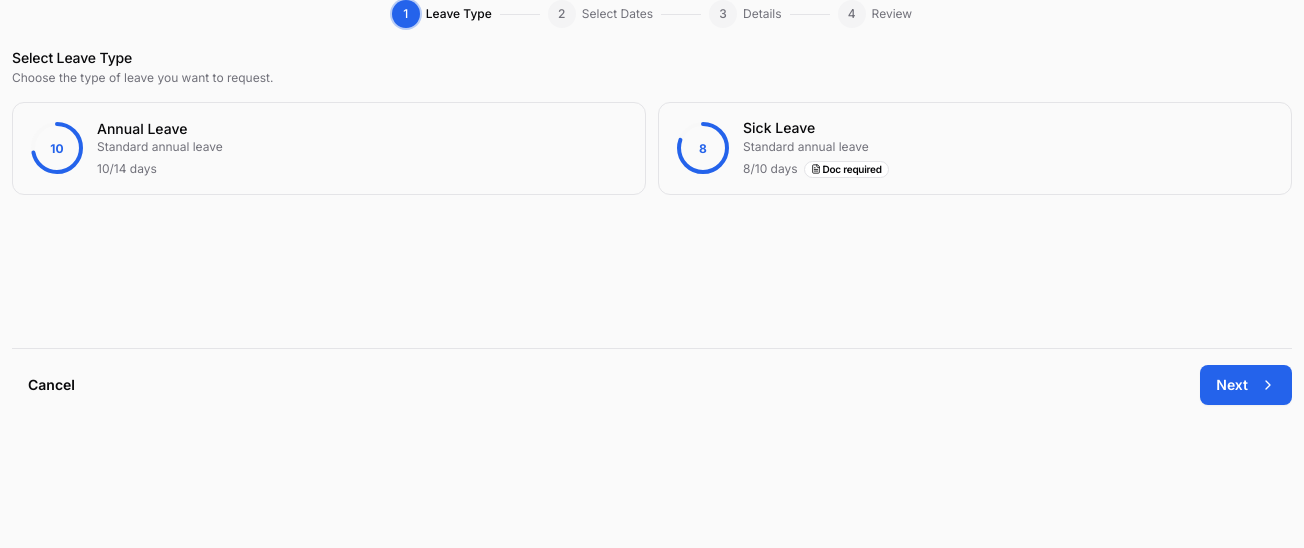
Scenario: LeaveRequestWizard › Step 2: Date Selection › shows balance warning when exceeding available days
Click the text "Annual Leave".
click(142, 128)  # box [97,120,187,136]
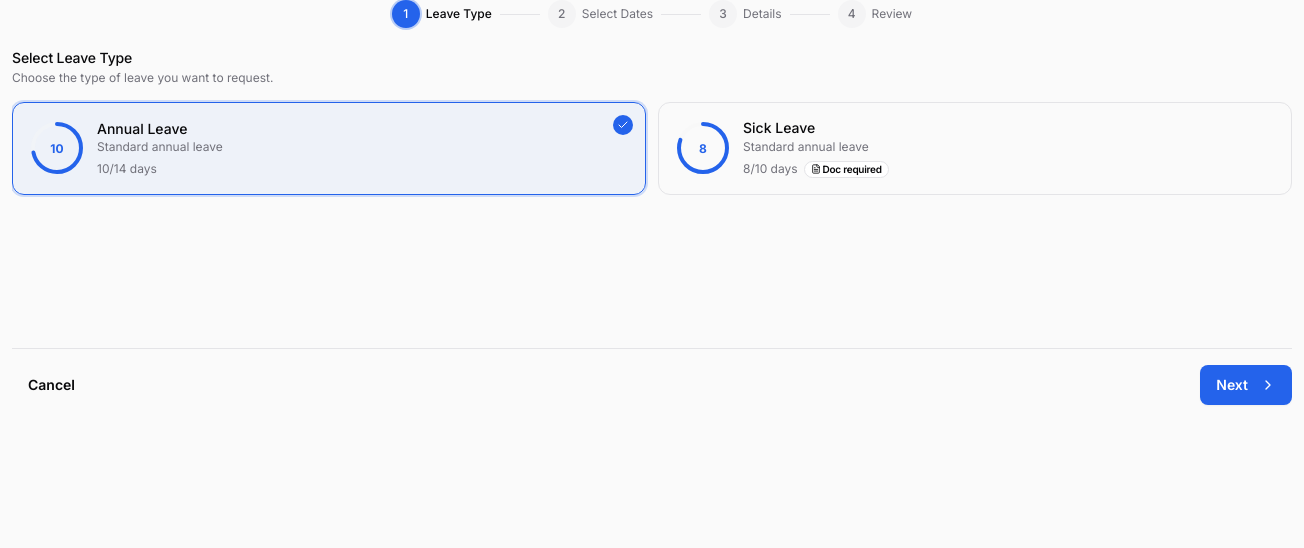
Click the button "Next".
click(1246, 385)  # box [1200,365,1292,405]
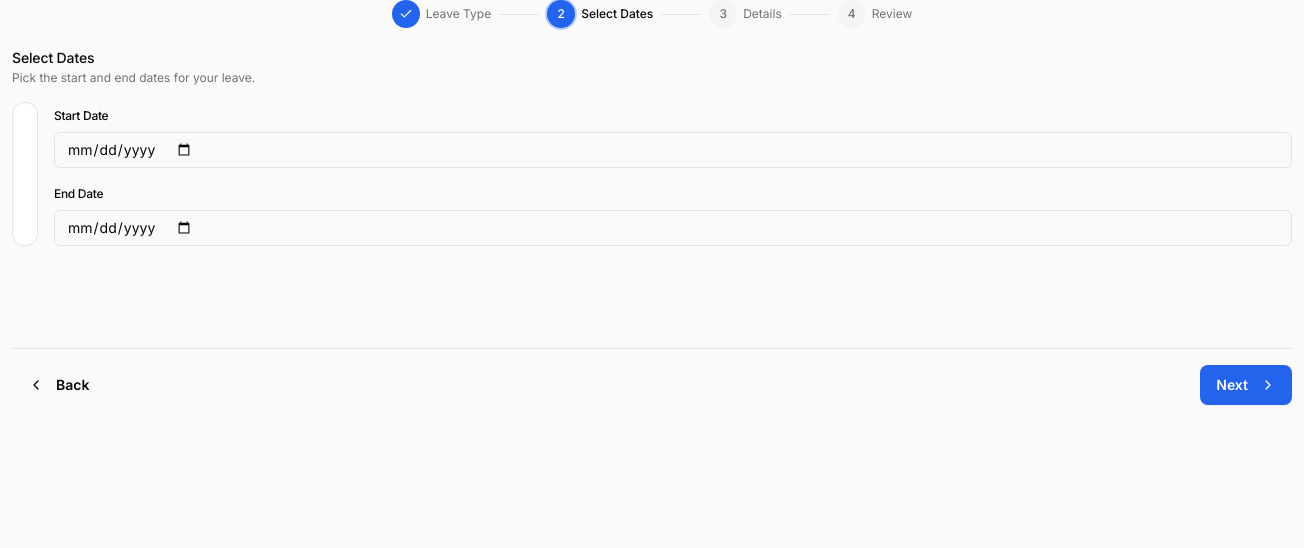
Type "2026-06-01" into the date field below "Start Date".
click(673, 150); type("2026-06-01")  # box [54,132,1292,168]
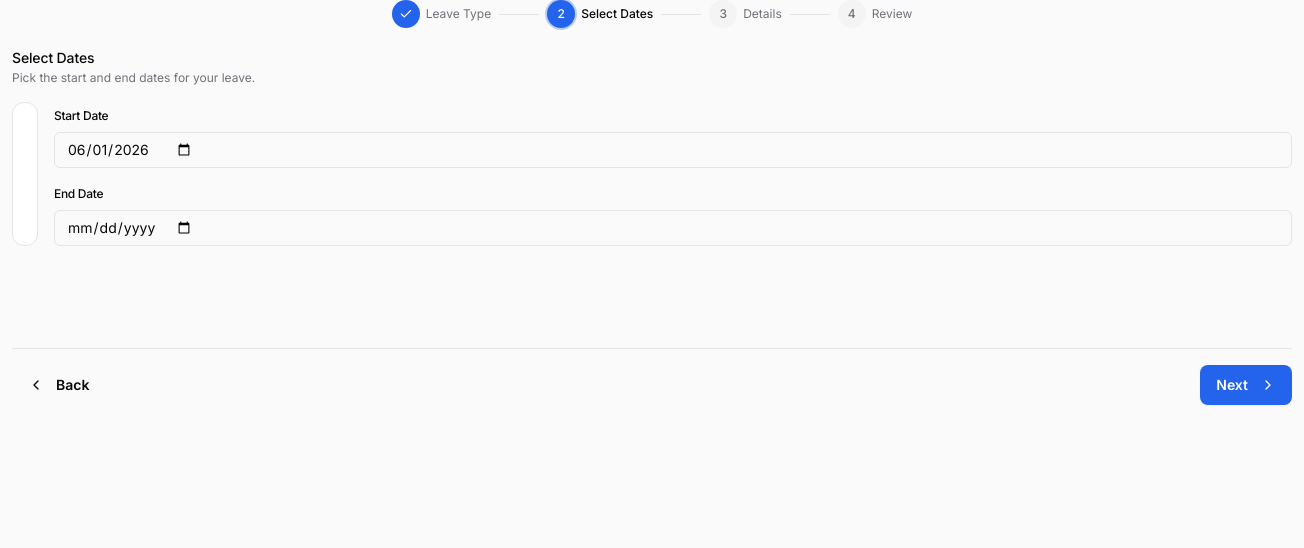
Type "2026-06-15" into the 2nd date field.
click(673, 228); type("2026-06-15")  # box [54,210,1292,246]
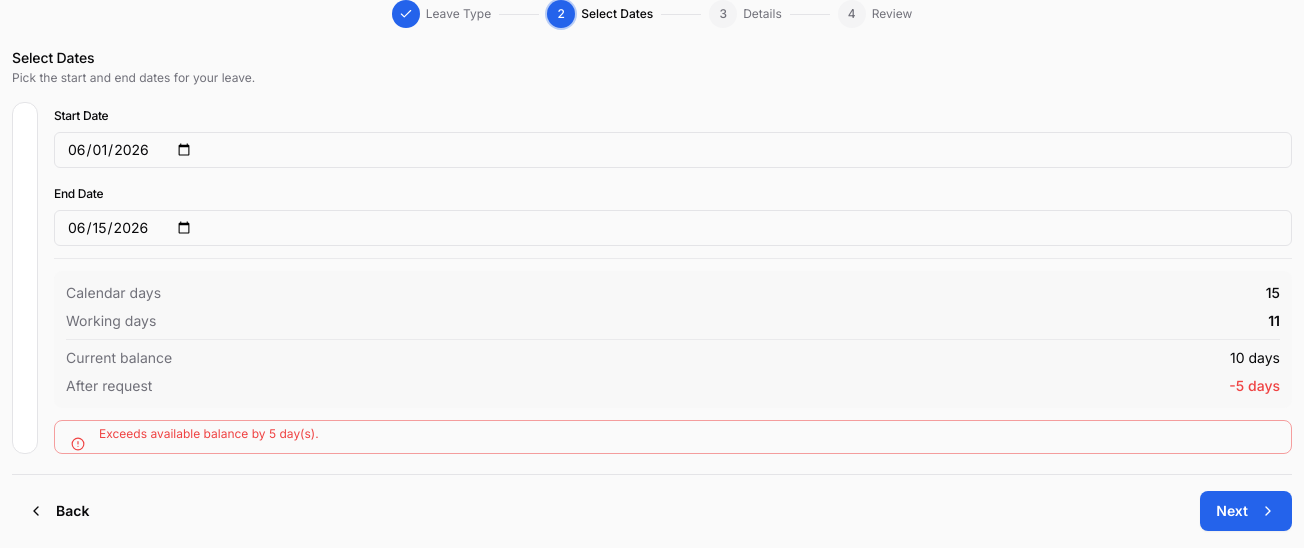
Expected: the text "Exceeds available balance by 5 day(s)." is shown, [99,426,319,441]
